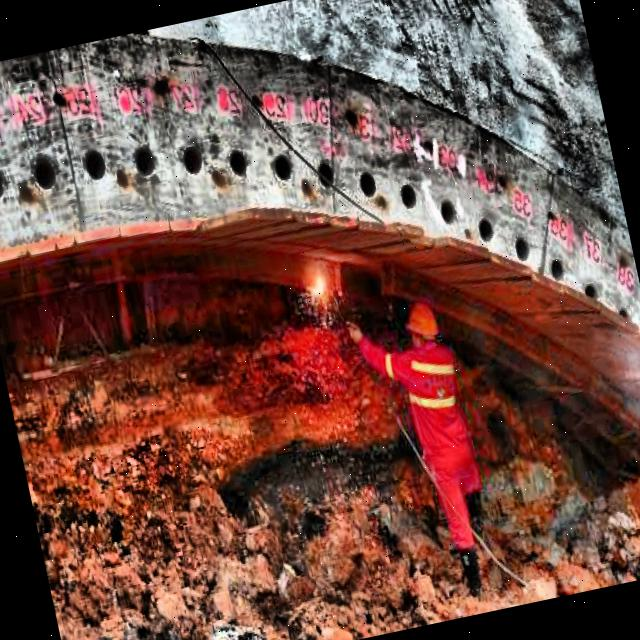helmet: (400, 297, 443, 351)
